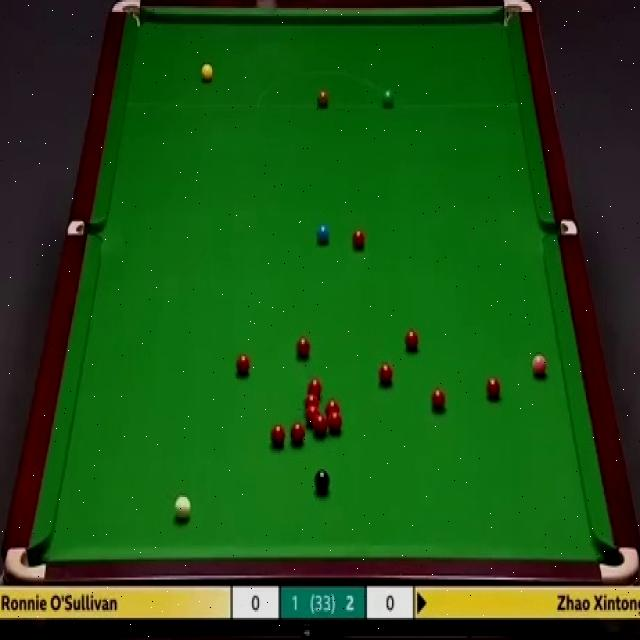black-ball: (315, 468, 330, 494)
blue-ball: (316, 223, 330, 242)
brown-ball: (316, 91, 330, 107)
green-ball: (382, 87, 395, 107)
pink-ball: (530, 354, 549, 378)
red-ball: (378, 361, 395, 386), (485, 376, 502, 401), (312, 414, 328, 440), (432, 388, 446, 415), (328, 412, 344, 433), (296, 335, 310, 359), (290, 422, 305, 444), (271, 424, 286, 445), (352, 230, 366, 252), (236, 354, 250, 375), (305, 408, 318, 427), (310, 377, 321, 399), (406, 330, 418, 350), (326, 399, 339, 417), (305, 397, 318, 414)
white-ball: (174, 494, 191, 524)
yellow-ball: (200, 63, 213, 83)
